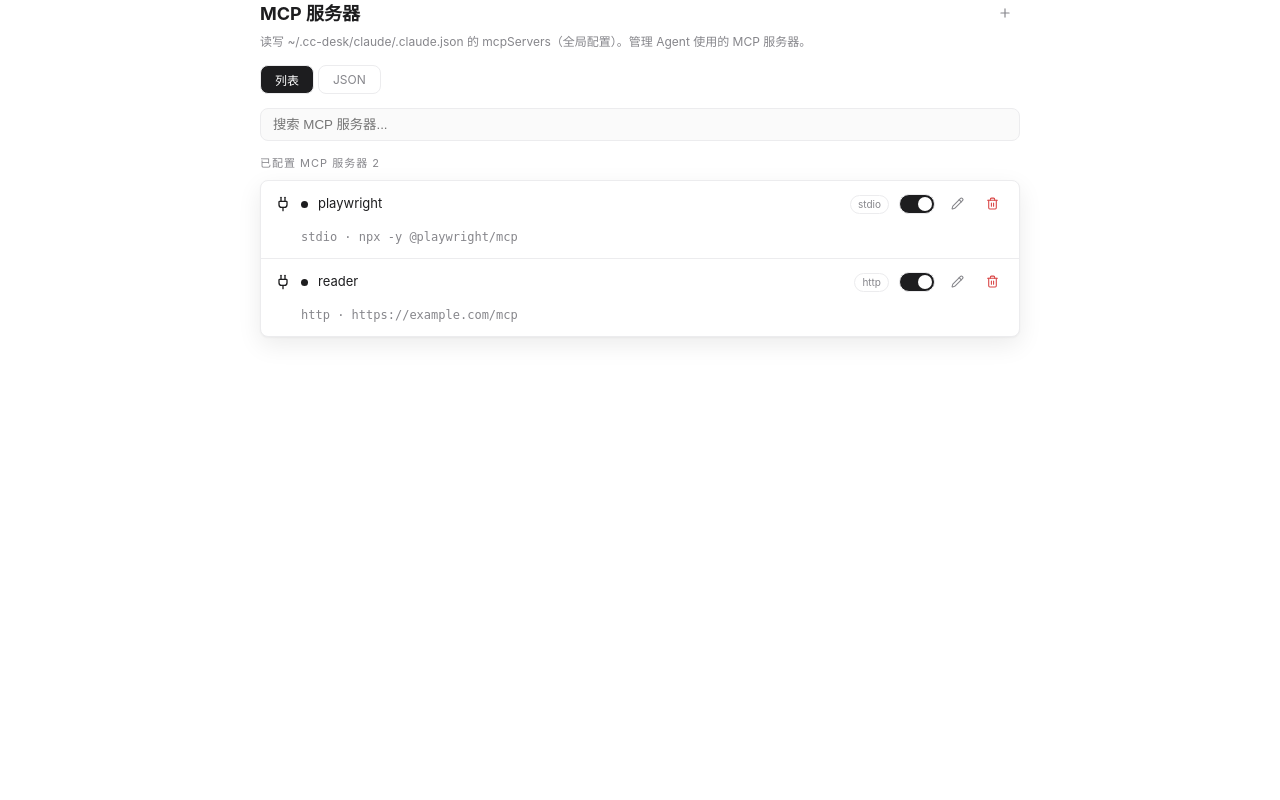
Test: McpSettings › 取消新增 MCP 会丢弃本地占位项
expect the text "playwright" is shown: met, box left=318, top=195, right=382, bottom=211
Click the button named "添加". click: (1005, 14)
box: left=990, top=2, right=1020, bottom=26
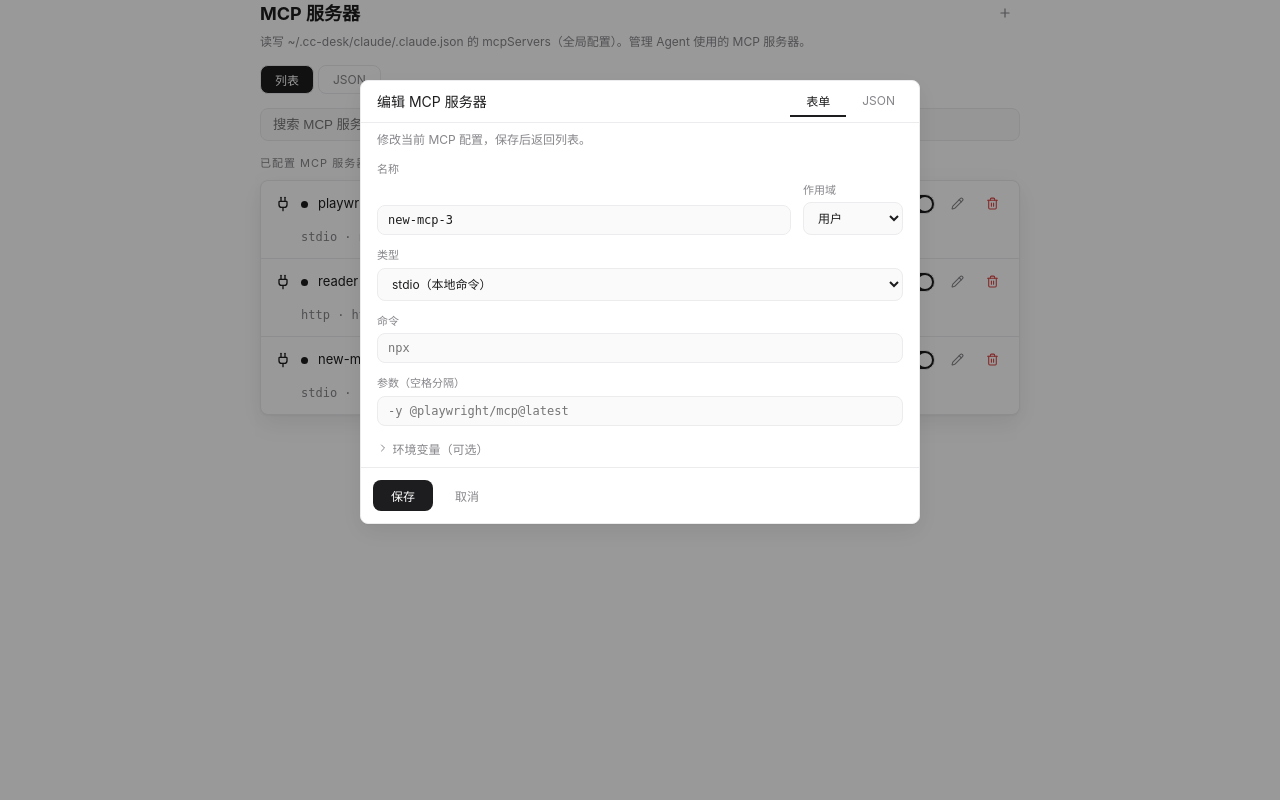
Click the button "取消". click: (467, 496)
box: left=441, top=480, right=493, bottom=511
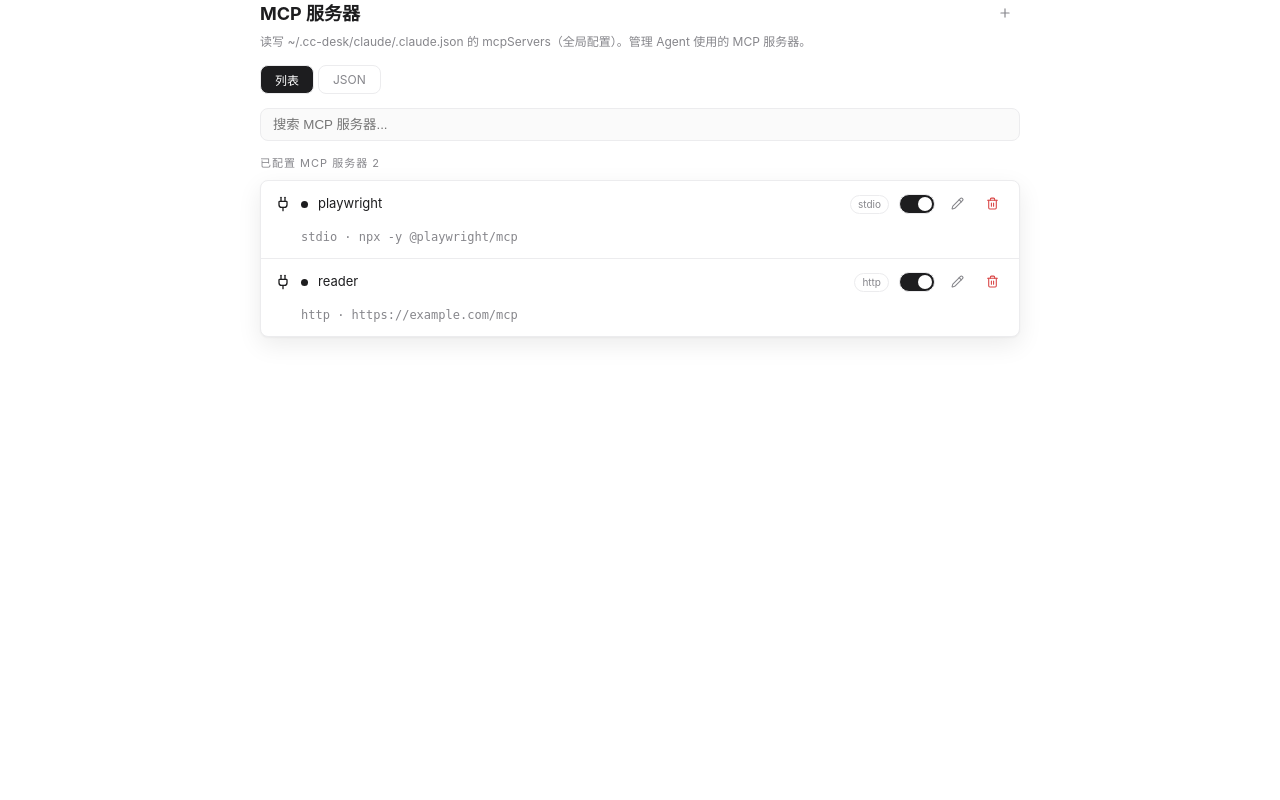
expect the text "new-mcp-3" is gone: met
